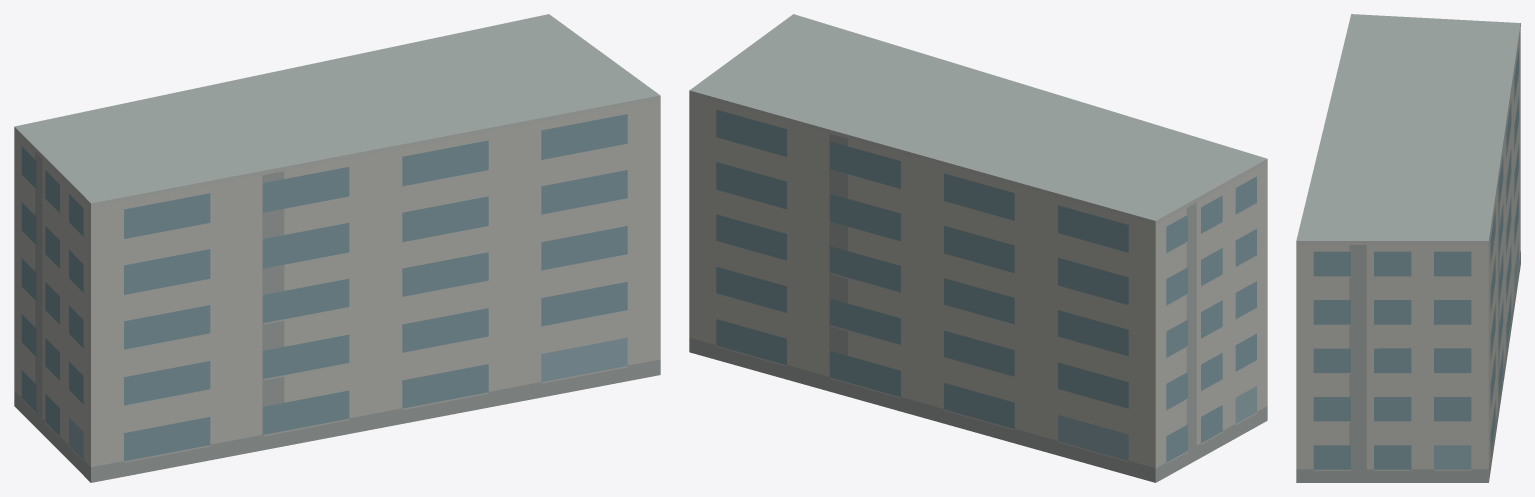
File: survey-upis-32761278.glb
3 renders of one model, left to right at view 1: azimuth 30°, elevation 25°; view 2: azimuth 150°, elevation 25°; view 3: azimuth 270°, elevation 25°, orthographic. The views are drawn at different scales.
Visible parts, largest first — view 1: survey-upis-32761278.tmp; view 2: survey-upis-32761278.tmp; view 3: survey-upis-32761278.tmp.
Boxes of the visible parts, x1,y1,x2,y2 form: survey-upis-32761278.tmp: [14, 14, 660, 482]; survey-upis-32761278.tmp: [689, 14, 1267, 482]; survey-upis-32761278.tmp: [1296, 14, 1520, 482].
Bounding box in the file's own units: 30.82 × 15.3 × 12.88.
